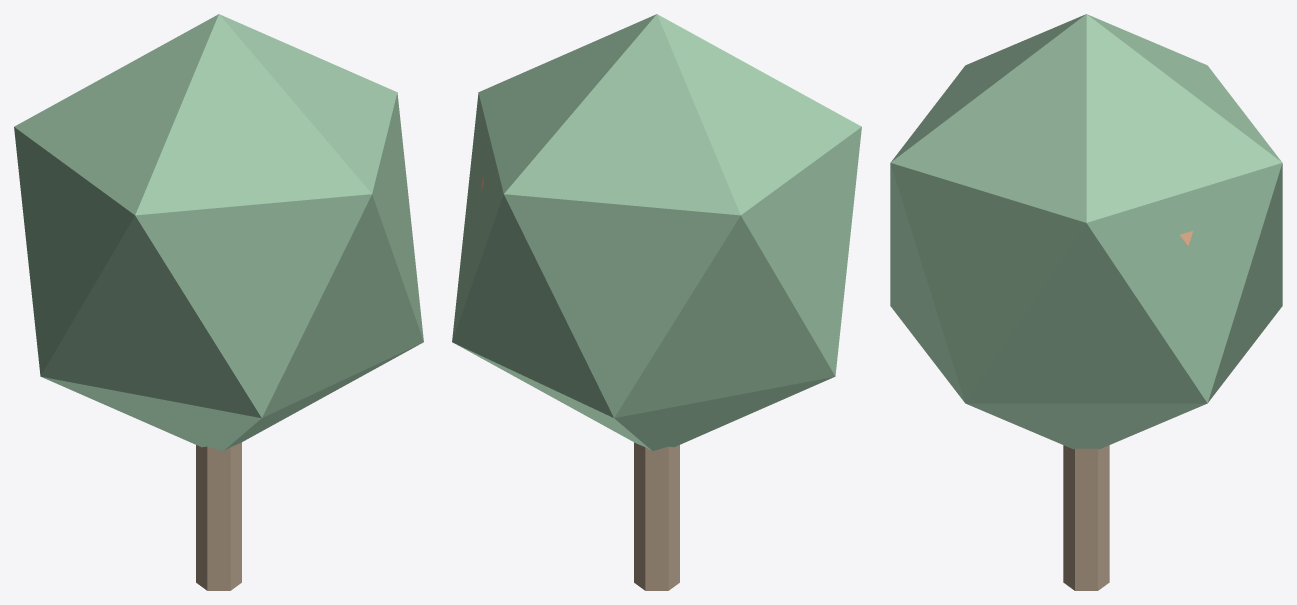
Rendered from orchard_tree.glb.
3 views of the same model, side by side, from view 1: azimuth 30°, elevation 25°; view 2: azimuth 150°, elevation 25°; view 3: azimuth 270°, elevation 25° (orthographic).
Visible parts, largest first — view 1: orchard_tree__crown, orchard_tree__trunk; view 2: orchard_tree__crown, orchard_tree__trunk; view 3: orchard_tree__crown, orchard_tree__trunk.
Boxes of the visible parts, bbox=[...] form: orchard_tree__crown: bbox=[14, 14, 423, 450]; orchard_tree__trunk: bbox=[196, 442, 241, 590]; orchard_tree__crown: bbox=[452, 14, 861, 450]; orchard_tree__trunk: bbox=[634, 442, 679, 590]; orchard_tree__crown: bbox=[890, 14, 1282, 449]; orchard_tree__trunk: bbox=[1063, 445, 1109, 590].
Bounding box in the file's own units: 3.22 × 4.9 × 3.06.
